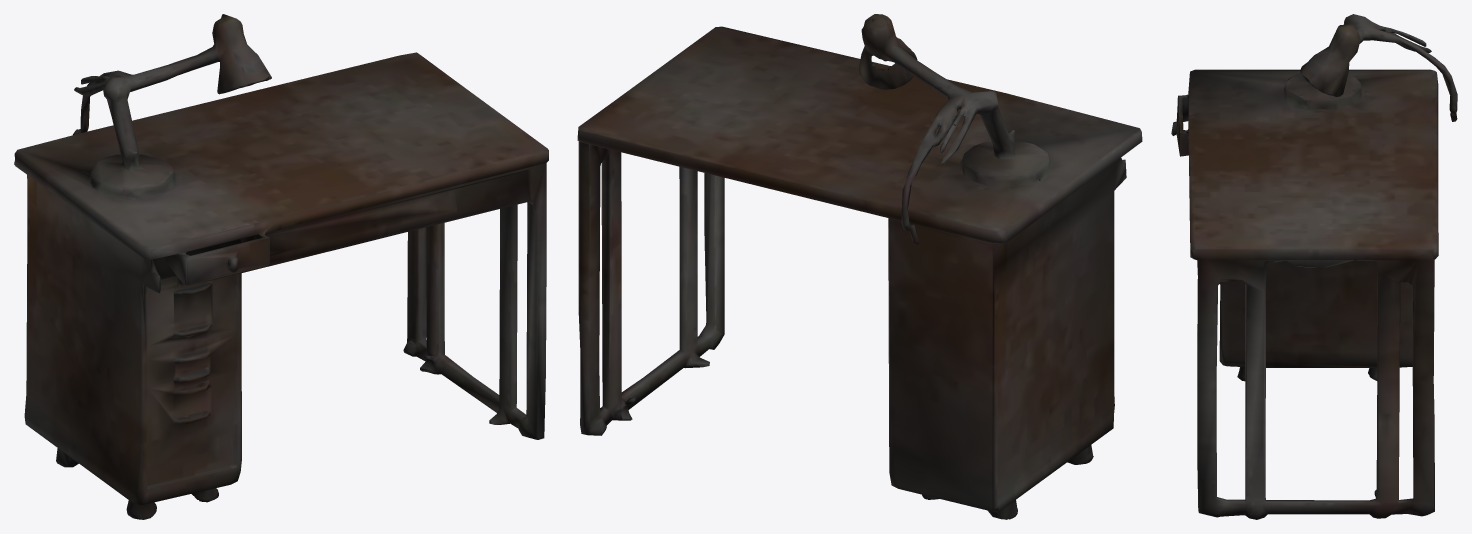
File: weathered-iron-desk-v001.glb
The picture shows the model from 3 angles, left to right: view 1: azimuth 30°, elevation 25°; view 2: azimuth 150°, elevation 25°; view 3: azimuth 270°, elevation 25°; orthographic projection. The views are drawn at different scales.
Visible parts, largest first — view 1: weathered-iron-desk; view 2: weathered-iron-desk; view 3: weathered-iron-desk.
Part boxes in pixels (x1,y1,x2,y2): weathered-iron-desk: [14, 14, 548, 519]; weathered-iron-desk: [577, 14, 1142, 519]; weathered-iron-desk: [1171, 14, 1457, 519].
Bounding box in the file's own units: 0.7732 × 0.7775 × 0.5177.
Materials: 1 (1 with a texture image).
